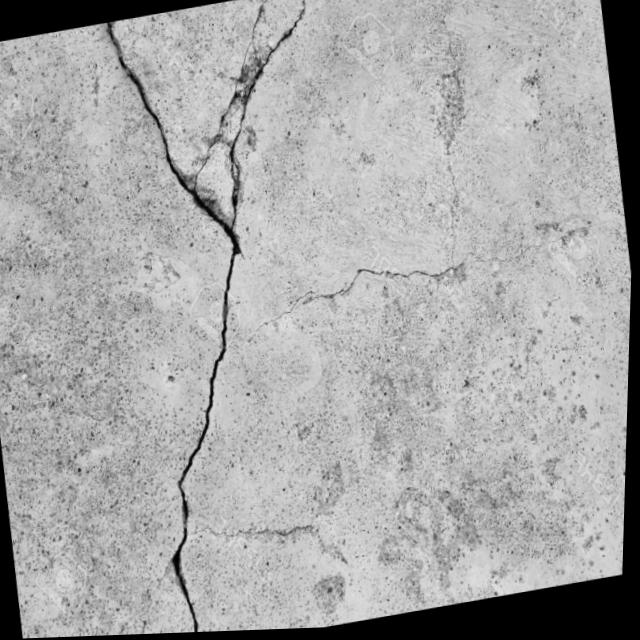Crack: (74, 0, 397, 637), (238, 224, 548, 352), (177, 490, 325, 564)
